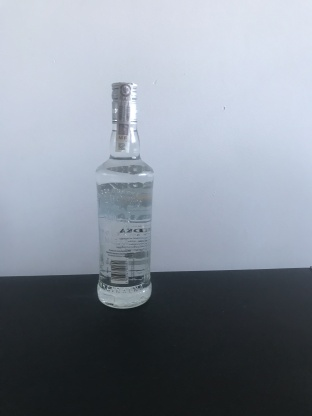nakretka: (108, 76, 140, 130)
